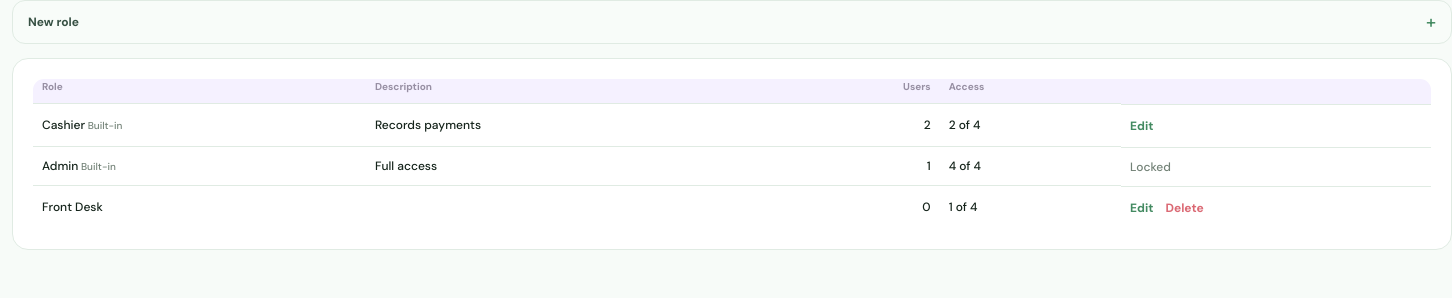
Test: deleting asks first, then deletes; a refusal is shown
What coordinates should you click on to do the following:
click the button with aria-label "Delete Front Desk"
I would click on:
 (1185, 208)
Its box is [1165,196,1204,218].
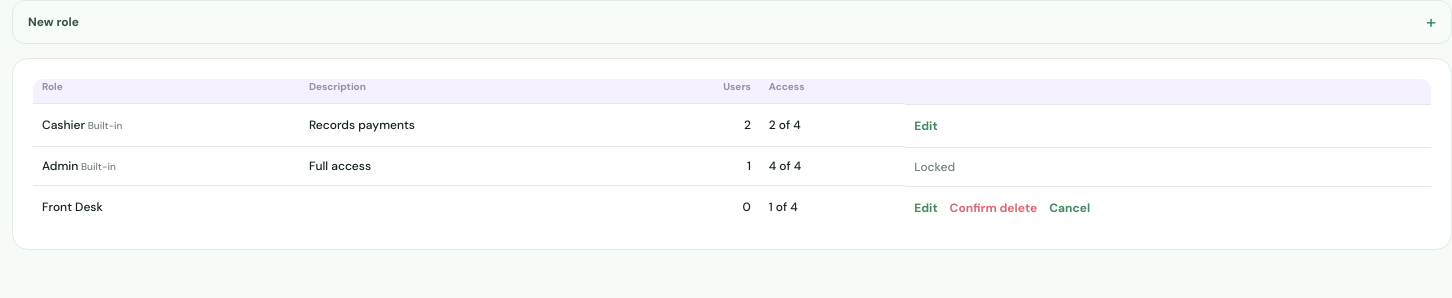
What coordinates should you click on to do the following:
click the button with aria-label "Cancel delete"
I would click on:
 (1070, 208)
Its box is [1049,196,1090,218].
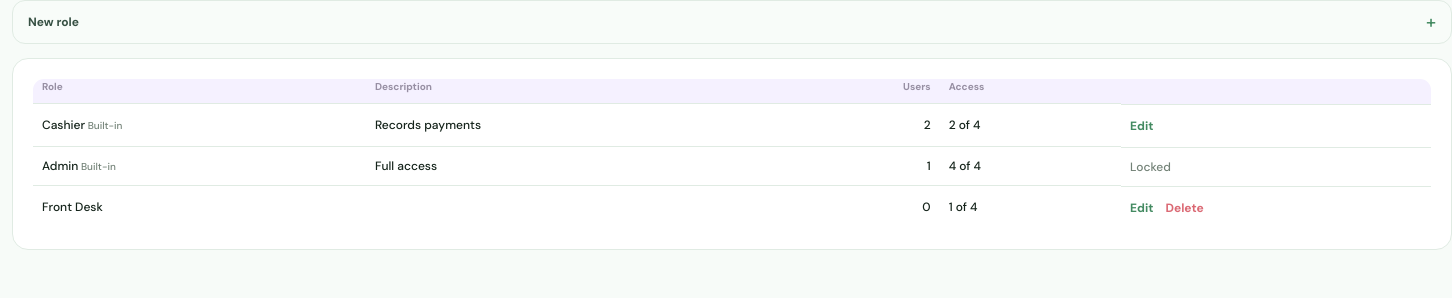
What coordinates should you click on to do the following:
click the button with aria-label "Delete Front Desk"
I would click on:
 (1185, 208)
Its box is [1165,196,1204,218].
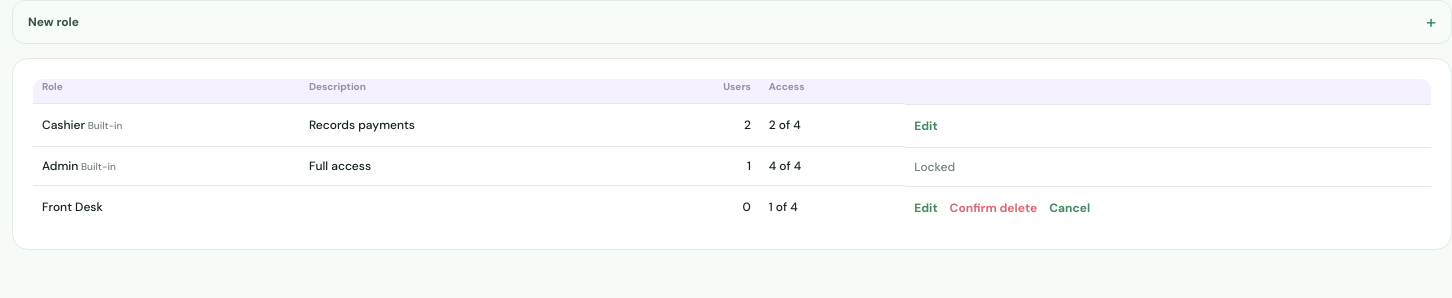
What coordinates should you click on to do the following:
click the button with aria-label "Confirm delete Front Desk"
I would click on:
 (993, 208)
Its box is [950,196,1037,218].
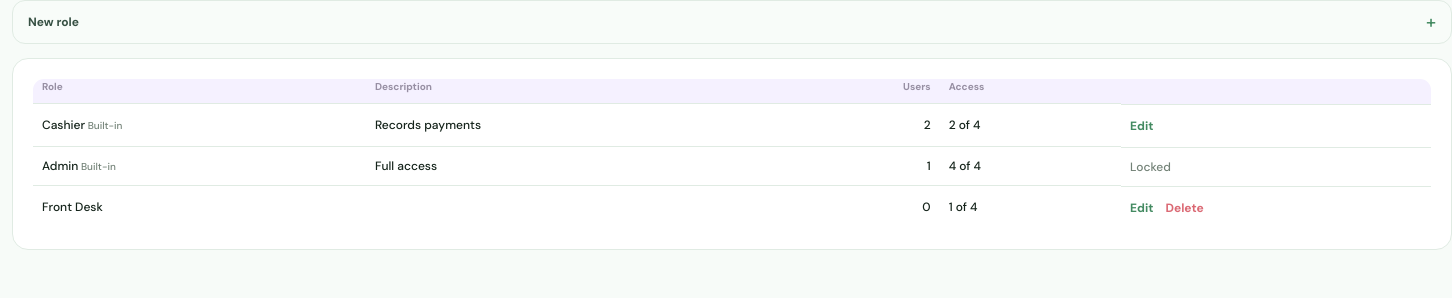
What coordinates should you click on to do the following:
click the button with aria-label "Delete Front Desk"
I would click on:
 (1185, 208)
Its box is [1165,196,1204,218].
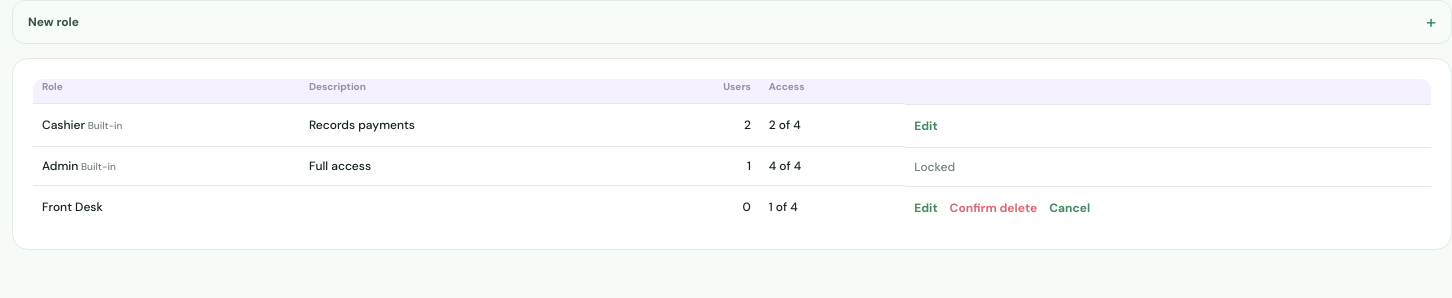
What coordinates should you click on to do the following:
click the button with aria-label "Confirm delete Front Desk"
I would click on:
 (993, 208)
Its box is [950,196,1037,218].
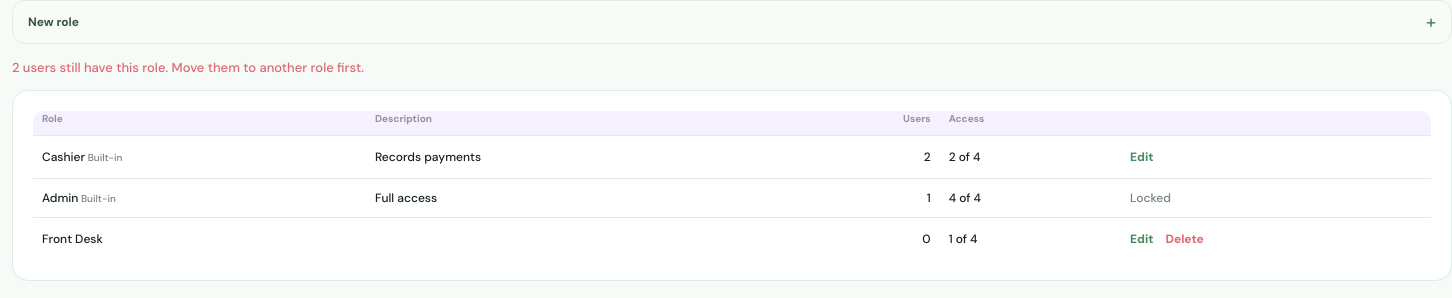
Check: the message shows "2 users still have this role", box [12,59,364,76]
